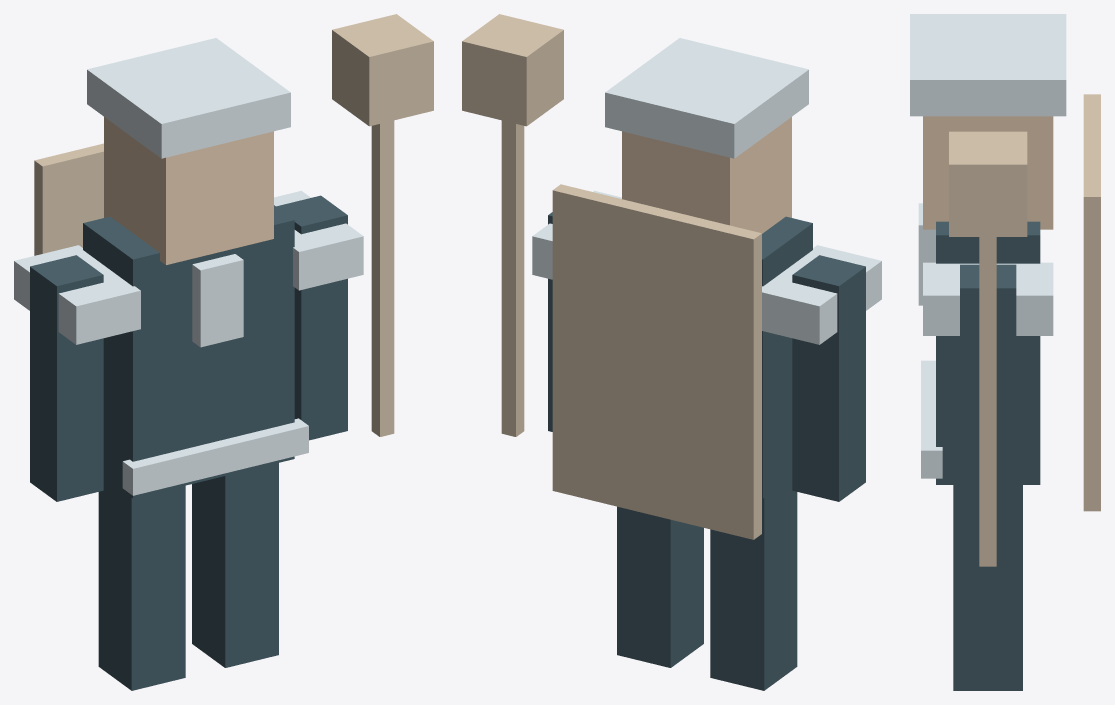
Rendered from 06_selka_whispercoil_smith_near.glb.
The picture shows the model from 3 angles, left to right: view 1: azimuth 30°, elevation 25°; view 2: azimuth 150°, elevation 25°; view 3: azimuth 270°, elevation 25°; orthographic projection. The views are drawn at different scales.
Parts seen in each view (by area): view 1: Selka Whispercoil, Smith near; view 2: Selka Whispercoil, Smith near; view 3: Selka Whispercoil, Smith near.
Boxes of the visible parts, x1,y1,x2,y2 form: Selka Whispercoil, Smith near: (14,14,433,690); Selka Whispercoil, Smith near: (462,14,881,690); Selka Whispercoil, Smith near: (910,14,1100,690).
Size of the model in its own units: 1.02 by 1.52 by 0.4324.
